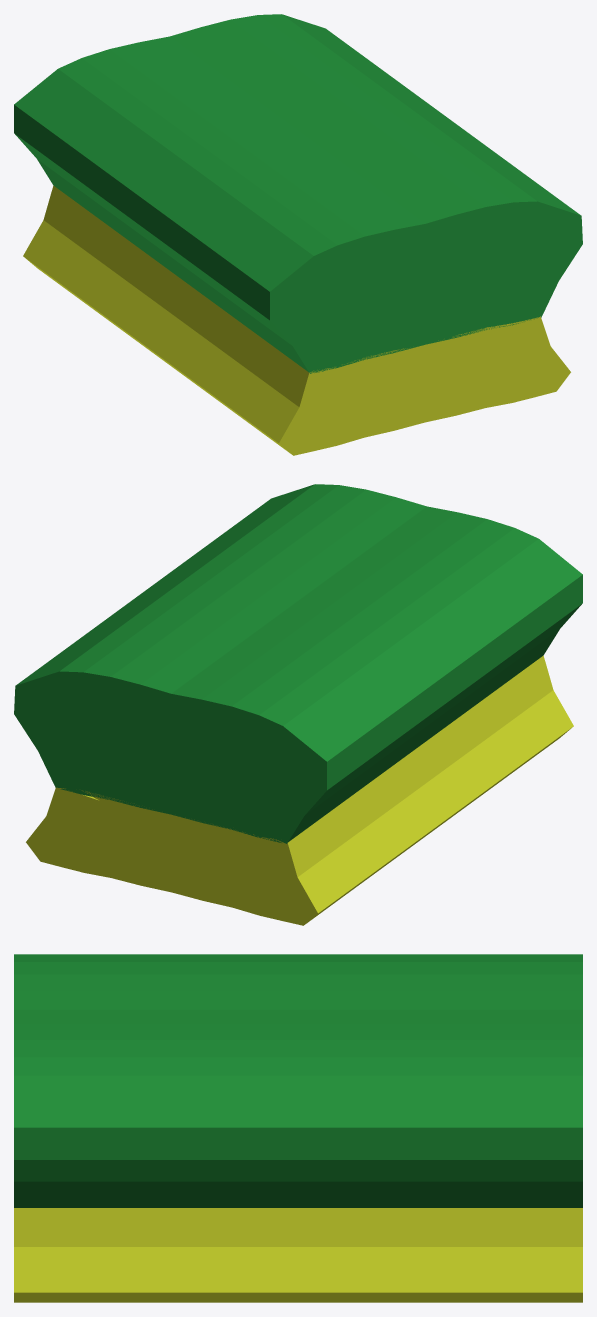
Rendered from scrubber.fbx.
3 renders of one model, top to bottom at view 1: azimuth 30°, elevation 25°; view 2: azimuth 150°, elevation 25°; view 3: azimuth 270°, elevation 25°, orthographic. The views are drawn at different scales.
Parts seen in each view (by area): view 1: Cylinder; view 2: Cylinder; view 3: Cylinder.
Boxes of the visible parts, x1,y1,x2,y2 form: Cylinder: (14, 14, 582, 455); Cylinder: (14, 484, 582, 925); Cylinder: (14, 954, 582, 1302).
Bounding box in the file's own units: 198 × 122 × 280.
